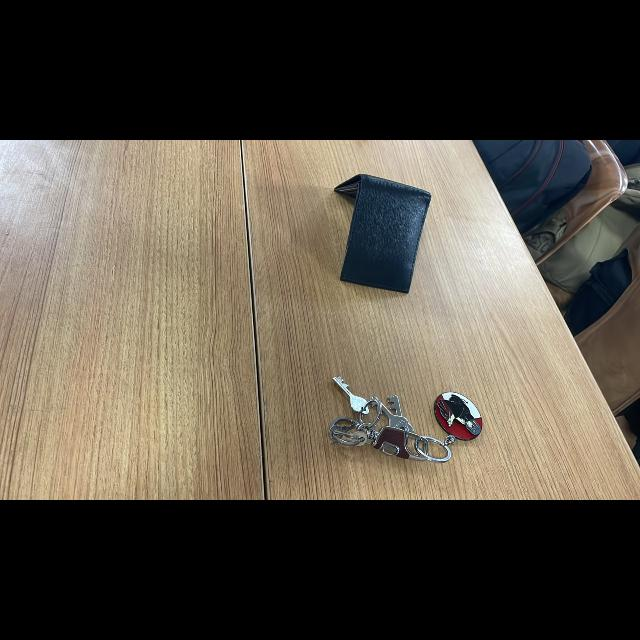keys: (316, 359, 512, 473)
wallet: (332, 142, 442, 296)
